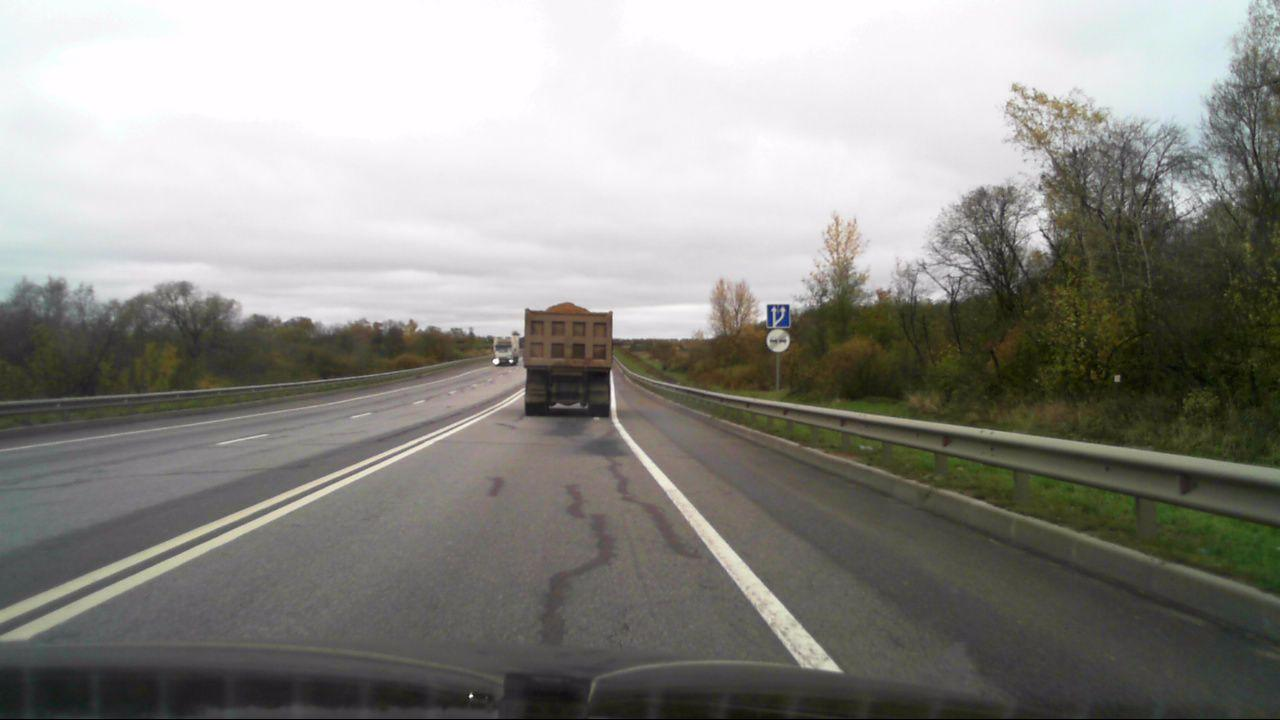3_21: (765, 327, 791, 353)
5_15_3: (766, 303, 790, 328)
